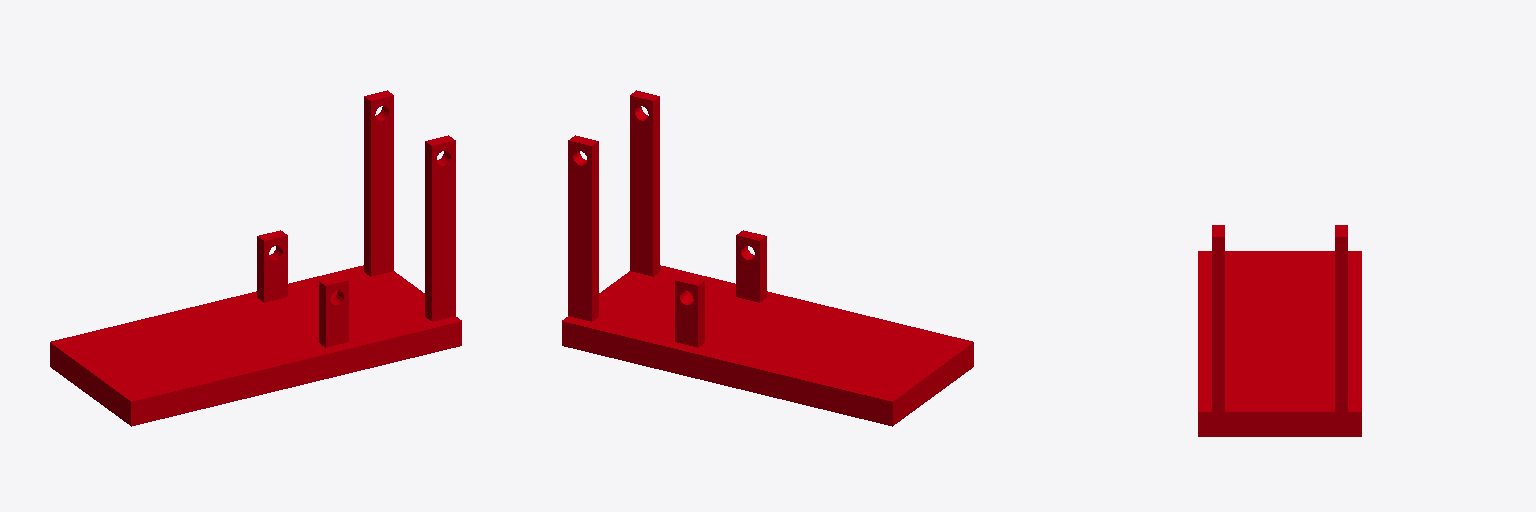
The picture shows the model from 3 angles: view 1: azimuth 30°, elevation 25°; view 2: azimuth 150°, elevation 25°; view 3: azimuth 270°, elevation 25°; orthographic projection.
Parts seen in each view (by area): view 1: base.001; view 2: base.001; view 3: base.001.
Part boxes in pixels (x1,y1,x2,y2): base.001: (50, 90, 461, 426); base.001: (562, 90, 973, 426); base.001: (1198, 225, 1361, 436).
Size of the model in its own units: 1.4 by 0.81 by 0.6.